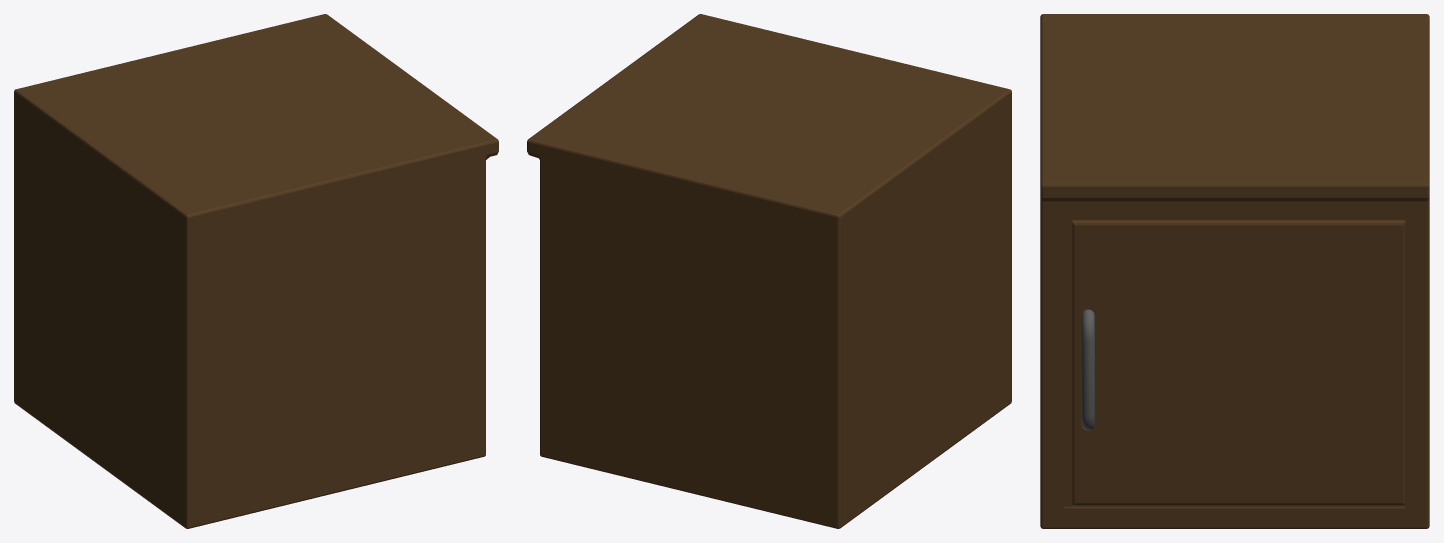
The model's file is Cabine_Petit_2.fbx.
3 views of the same model, side by side, from view 1: azimuth 30°, elevation 25°; view 2: azimuth 150°, elevation 25°; view 3: azimuth 270°, elevation 25° (orthographic). The views are drawn at different scales.
Visible parts, largest first — view 1: Cabine_Petit_2; view 2: Cabine_Petit_2; view 3: Cabine_Petit_2.
Part boxes in pixels (x1,y1,x2,y2): Cabine_Petit_2: (14,14,498,528); Cabine_Petit_2: (527,14,1011,528); Cabine_Petit_2: (1040,14,1429,528).
Size of the model in its own units: 212 by 200 by 200.
